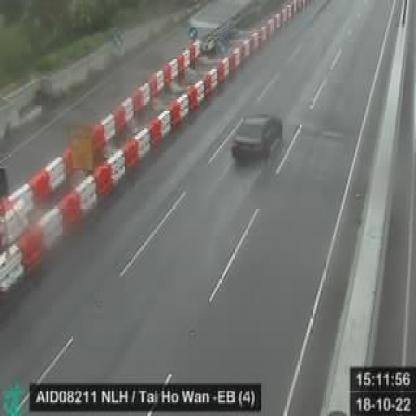Car: (230, 114, 285, 168)
